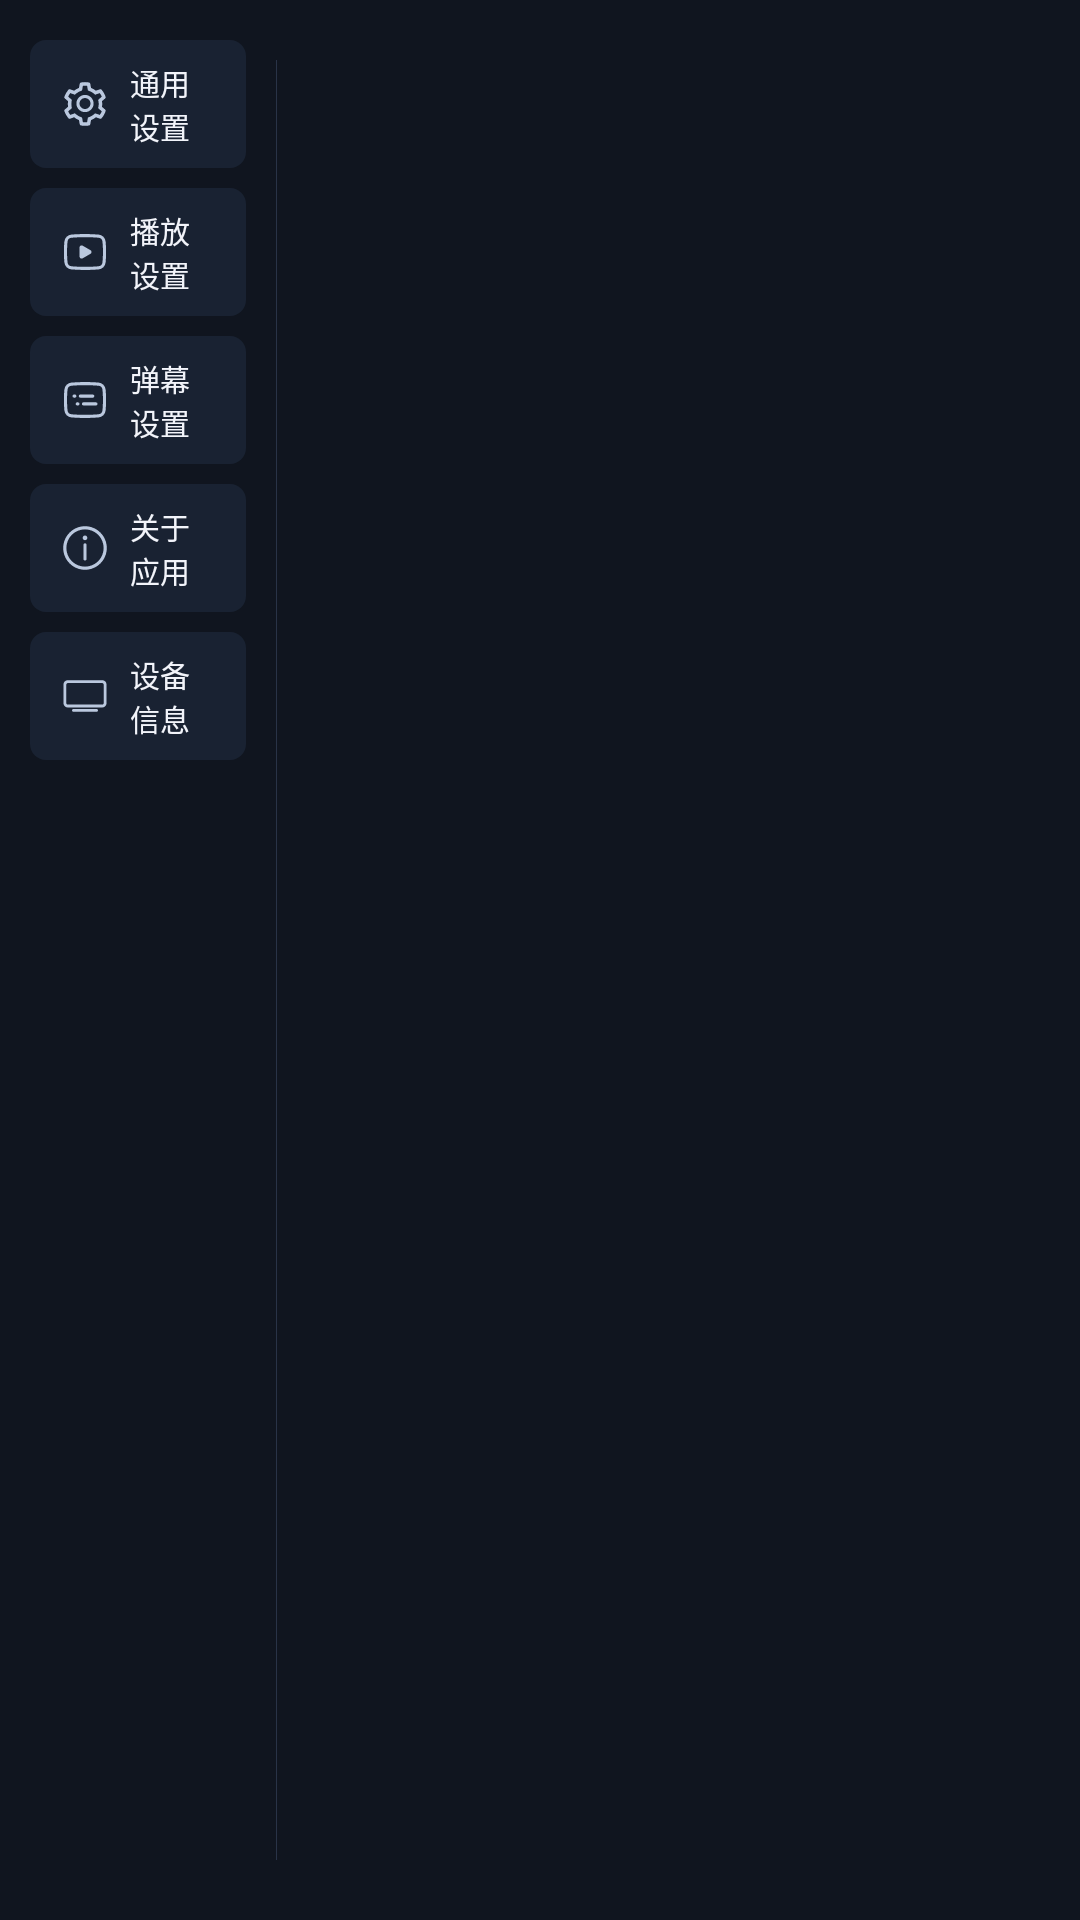

Icon bounding boxes for this 1080w x 1920h phone screenshot, format [x1,y1,x2,y2]:
about: [63,526,107,570]
setting: [64,82,106,126]
video danmaku: [64,382,106,418]
